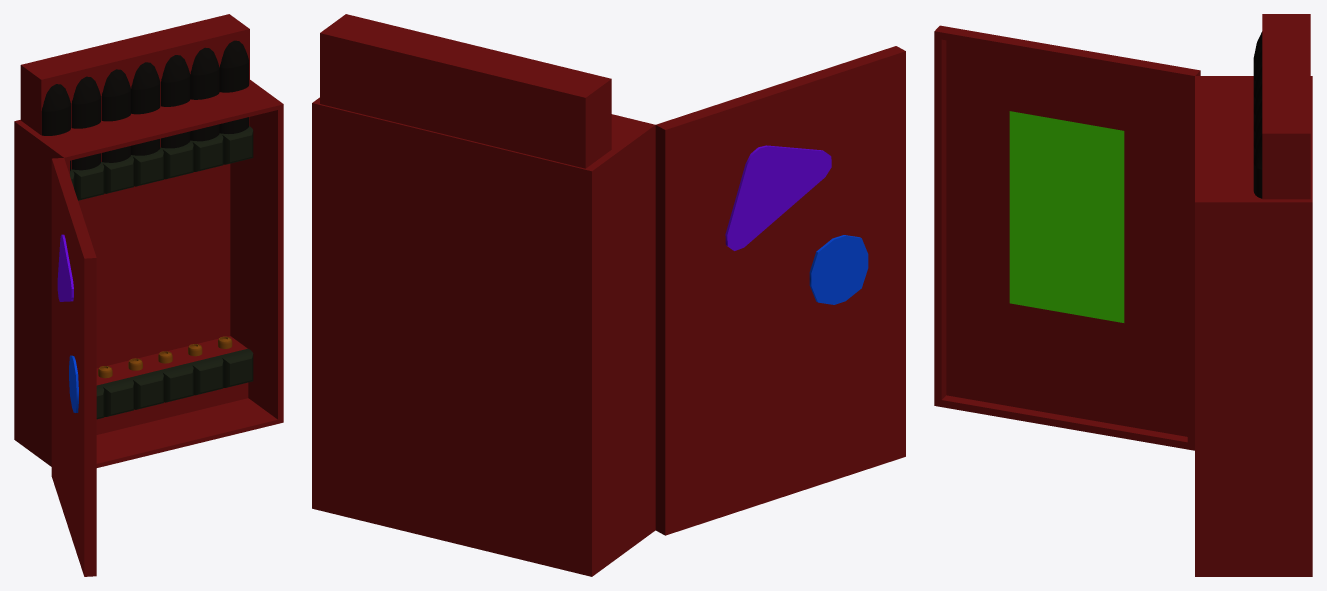
The model's file is SM_ElectricalPanel.fbx.
3 views of the same model, side by side, from view 1: azimuth 30°, elevation 25°; view 2: azimuth 150°, elevation 25°; view 3: azimuth 270°, elevation 25° (orthographic). The views are drawn at different scales.
Parts seen in each view (by area): view 1: polySurface90, polySurface81; view 2: polySurface90, polySurface81; view 3: polySurface81, polySurface90.
Part boxes in pixels (bbox=[...]): polySurface90: bbox=[14, 14, 283, 467]; polySurface81: bbox=[51, 158, 96, 576]; polySurface90: bbox=[312, 14, 655, 576]; polySurface81: bbox=[655, 46, 905, 535]; polySurface81: bbox=[934, 25, 1200, 450]; polySurface90: bbox=[1195, 14, 1312, 576].
Size of the model in its own units: 89.97 by 104 by 81.31.
